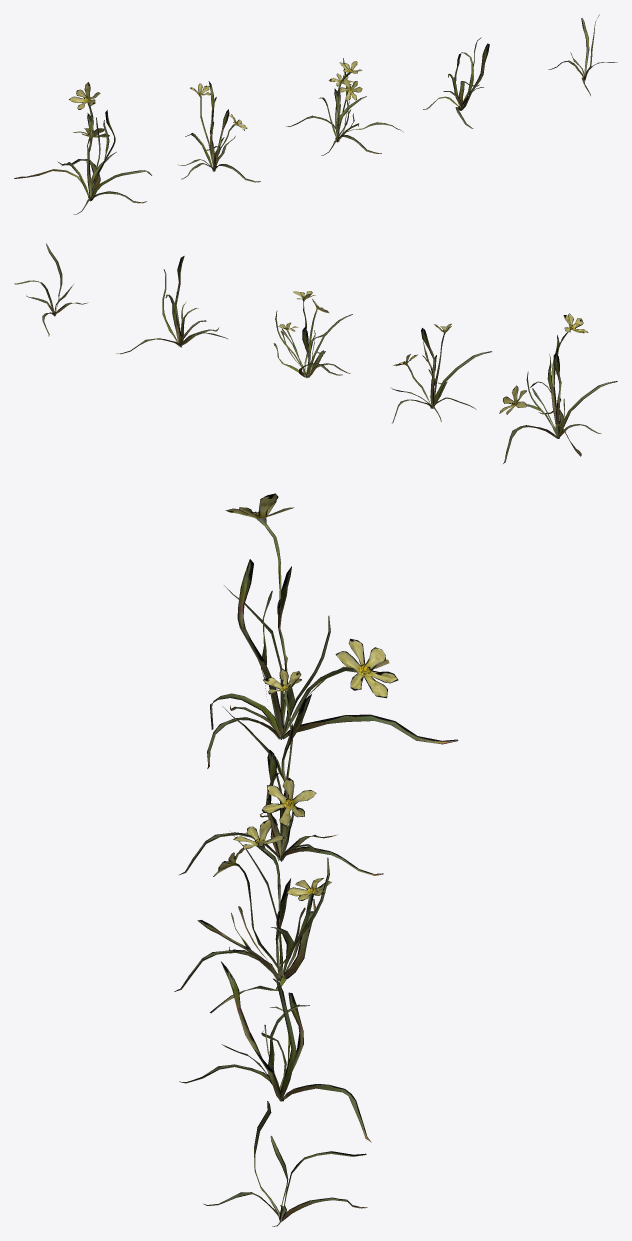
File: flower_empodium.glb
3 renders of one model, top to bottom at view 1: azimuth 30°, elevation 25°; view 2: azimuth 150°, elevation 25°; view 3: azimuth 270°, elevation 25°, orthographic. The views are drawn at different scales.
Parts seen in each view (by area): view 1: flower_empodium_a_LOD0, flower_empodium_c_LOD0, flower_empodium_b_LOD0, flower_empodium_d_LOD0, flower_empodium_e_LOD0; view 2: flower_empodium_a_LOD0, flower_empodium_c_LOD0, flower_empodium_b_LOD0, flower_empodium_d_LOD0, flower_empodium_e_LOD0; view 3: flower_empodium_a_LOD0, flower_empodium_c_LOD0, flower_empodium_b_LOD0, flower_empodium_d_LOD0, flower_empodium_e_LOD0.
Boxes of the visible parts, x1,y1,x2,y2 form: flower_empodium_a_LOD0: [14, 82, 151, 214]; flower_empodium_c_LOD0: [286, 58, 403, 155]; flower_empodium_b_LOD0: [178, 81, 260, 182]; flower_empodium_d_LOD0: [423, 37, 489, 128]; flower_empodium_e_LOD0: [548, 14, 617, 95]; flower_empodium_a_LOD0: [499, 313, 617, 463]; flower_empodium_c_LOD0: [273, 291, 352, 377]; flower_empodium_b_LOD0: [390, 323, 491, 423]; flower_empodium_d_LOD0: [116, 256, 227, 354]; flower_empodium_e_LOD0: [14, 243, 88, 336]; flower_empodium_a_LOD0: [207, 493, 458, 768]; flower_empodium_c_LOD0: [174, 818, 331, 1013]; flower_empodium_b_LOD0: [179, 669, 383, 875]; flower_empodium_d_LOD0: [179, 961, 371, 1142]; flower_empodium_e_LOD0: [203, 1101, 367, 1226].
Size of the model in its own units: 1.32 by 0.2683 by 0.2838.
1 material, 1 textured.
